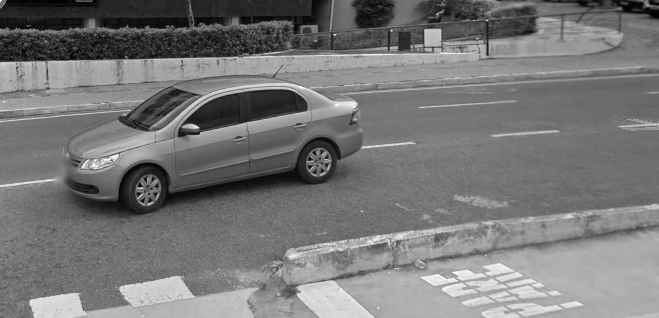car: (55, 61, 366, 217)
